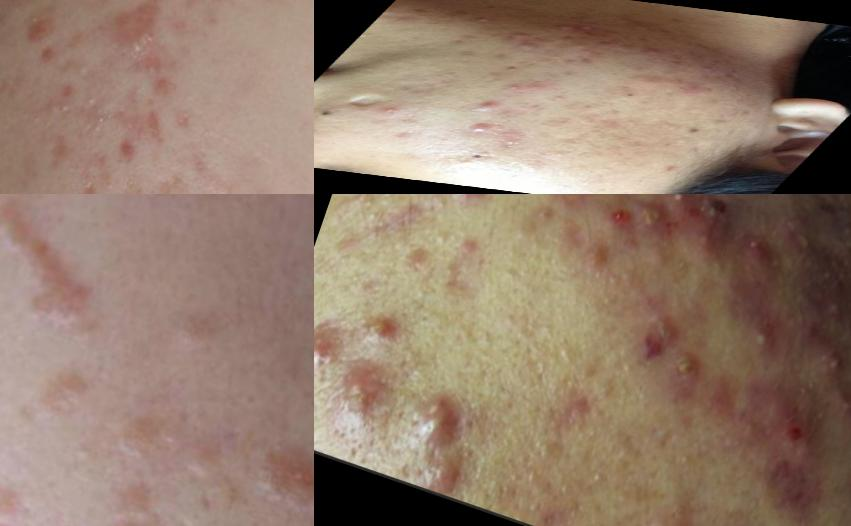acne_scars: (105, 92, 174, 149), (156, 159, 194, 195), (114, 164, 158, 195), (176, 1, 242, 18), (151, 73, 184, 102)
cystic: (728, 229, 790, 288), (415, 451, 465, 502)
flat_wart: (23, 355, 246, 493), (1, 200, 117, 353), (17, 457, 184, 526), (153, 293, 221, 390), (246, 433, 315, 526), (127, 195, 276, 231), (1, 454, 46, 526)
papular: (95, 1, 178, 73), (625, 302, 696, 378), (568, 236, 620, 287), (17, 2, 66, 54), (108, 127, 151, 174), (539, 21, 628, 42), (465, 97, 519, 118), (454, 120, 506, 139), (364, 102, 417, 118), (506, 41, 552, 55), (502, 30, 544, 45)
purulent: (739, 310, 797, 361)
sebo-crystan-conglo: (741, 385, 841, 484), (323, 365, 402, 439), (398, 382, 470, 455), (315, 313, 358, 395), (798, 333, 851, 389), (656, 195, 740, 229), (670, 342, 723, 388), (627, 197, 675, 239), (822, 205, 851, 268), (368, 310, 410, 352), (450, 195, 495, 214)
whitehead: (664, 442, 722, 484), (38, 92, 79, 128), (428, 220, 469, 252), (581, 451, 611, 494), (355, 30, 417, 50), (497, 264, 533, 296), (550, 331, 582, 365), (580, 415, 610, 450), (537, 88, 585, 106), (491, 137, 536, 153), (75, 52, 97, 81), (80, 90, 102, 116), (464, 15, 503, 27), (634, 47, 668, 59), (500, 83, 532, 94)
